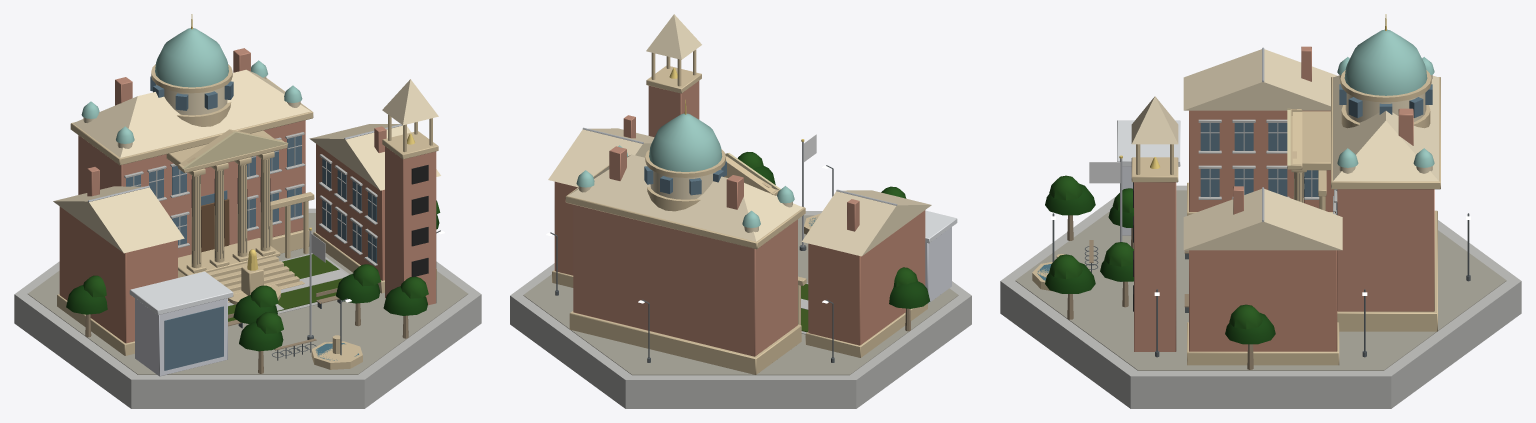
File: university_arab.glb
The picture shows the model from 3 angles, left to right: view 1: azimuth 30°, elevation 25°; view 2: azimuth 150°, elevation 25°; view 3: azimuth 270°, elevation 25°; orthographic projection. The views are drawn at different scales.
Visible parts, largest first — view 1: brick, wall_concrete, stone, plaster, pavers, glass, leaf, cladding, copper, dark, wood, turf (+2 smaller); view 2: brick, wall_concrete, plaster, stone, pavers, copper, cladding, leaf, glass, steel_dark, metal; view 3: brick, wall_concrete, plaster, pavers, stone, leaf, copper, glass, cladding, wood, steel_dark, banner.
Part boxes in pixels (x1,y1,x2,y2): brick: [59, 48, 436, 343]; wall_concrete: [14, 132, 481, 408]; stone: [57, 64, 438, 369]; plaster: [53, 69, 440, 253]; pavers: [28, 213, 467, 374]; glass: [126, 76, 376, 370]; leaf: [66, 200, 440, 351]; cladding: [129, 271, 233, 376]; copper: [81, 28, 302, 143]; dark: [191, 159, 428, 276]; wood: [85, 199, 408, 373]; turf: [228, 254, 342, 321]; brick: [554, 81, 925, 356]; wall_concrete: [510, 211, 971, 408]; plaster: [548, 14, 931, 256]; stone: [552, 49, 927, 375]; pavers: [523, 215, 958, 375]; copper: [576, 113, 794, 227]; cladding: [925, 210, 957, 303]; leaf: [737, 152, 930, 308]; glass: [644, 161, 816, 226]; steel_dark: [550, 165, 834, 362]; metal: [582, 127, 897, 246]; brick: [1134, 46, 1434, 351]; wall_concrete: [1000, 119, 1521, 408]; plaster: [1131, 49, 1438, 250]; pavers: [1015, 190, 1506, 370]; stone: [1032, 70, 1440, 365]; leaf: [1045, 175, 1275, 344]; copper: [1337, 29, 1434, 167]; glass: [1037, 84, 1432, 280]; cladding: [1117, 120, 1180, 235]; wood: [1067, 212, 1335, 369]; steel_dark: [1052, 213, 1470, 357]; banner: [1089, 162, 1120, 183].
Size of the model in its own units: 22.34 by 15.6 by 24.6.
